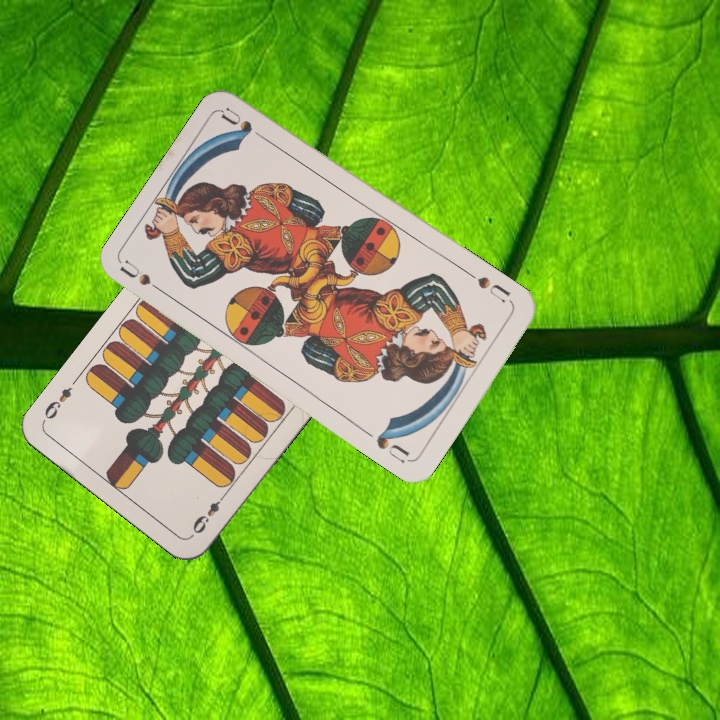E9: (188, 489, 230, 537)
SU: (117, 256, 172, 299), (464, 268, 513, 306)
